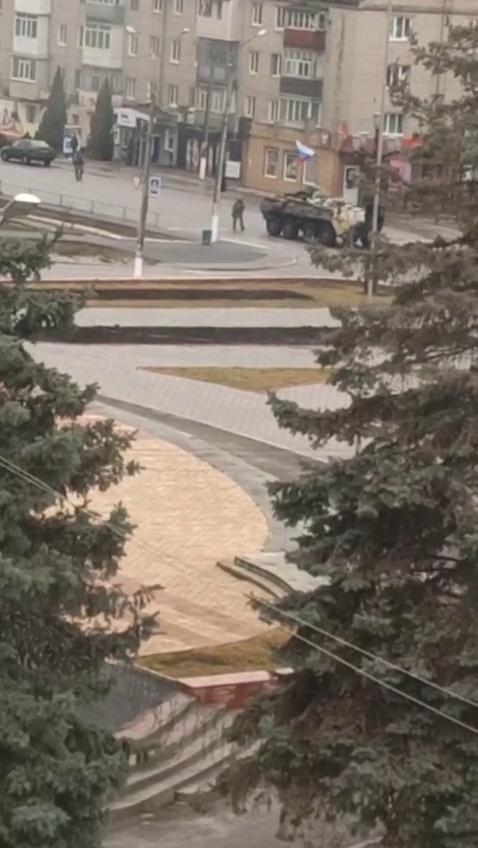car: (0, 140, 56, 168)
person: (231, 196, 246, 233), (72, 148, 85, 182)
tank: (260, 186, 371, 246)
